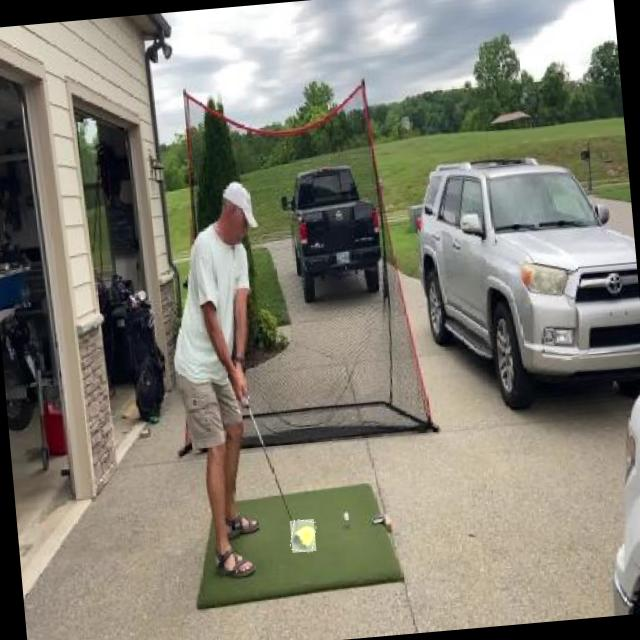club head: (289, 518, 316, 552)
